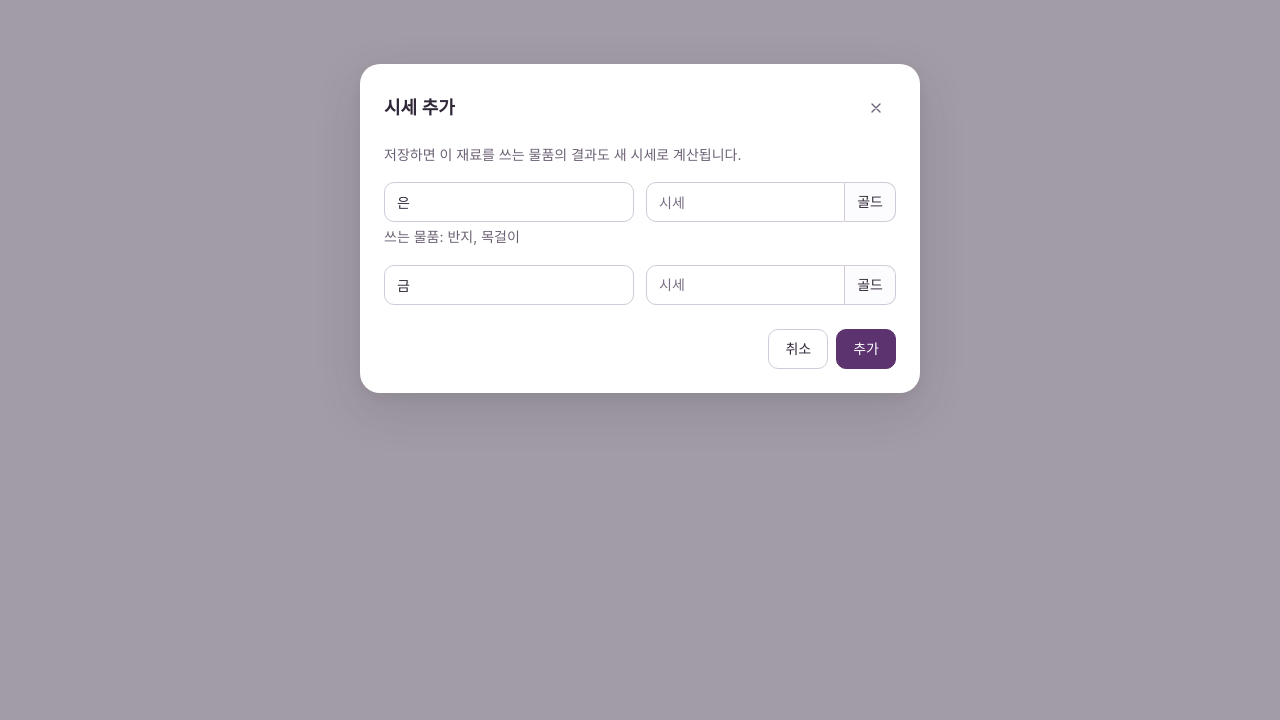
Scenario: NewMarketsModal › 시세 누락·이름 겹침을 알리고 제출하지 않는다
The width and height of the screenshot is (1280, 720).
Replace the text in the field labelled "금 이름" with "원목" at (509, 285), box [397,266,621,304]
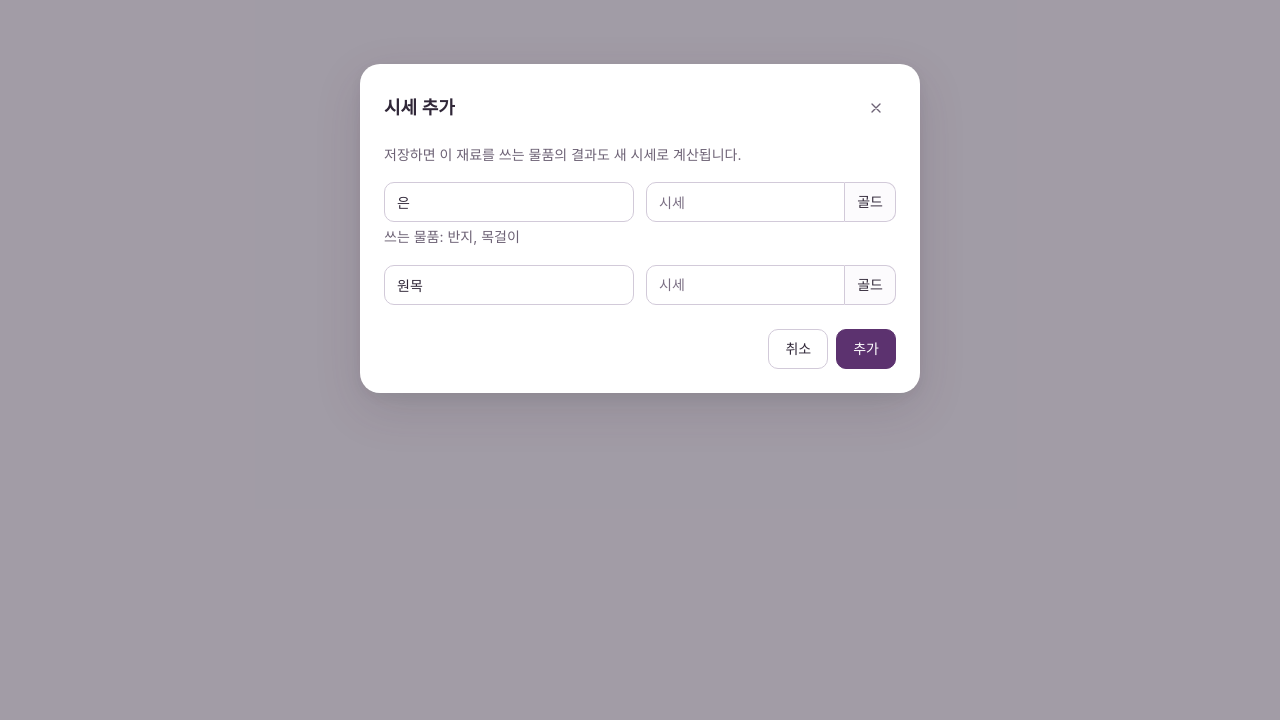
Type "30" into the number field labelled "은 시세" at (746, 202), box [659,183,832,221]
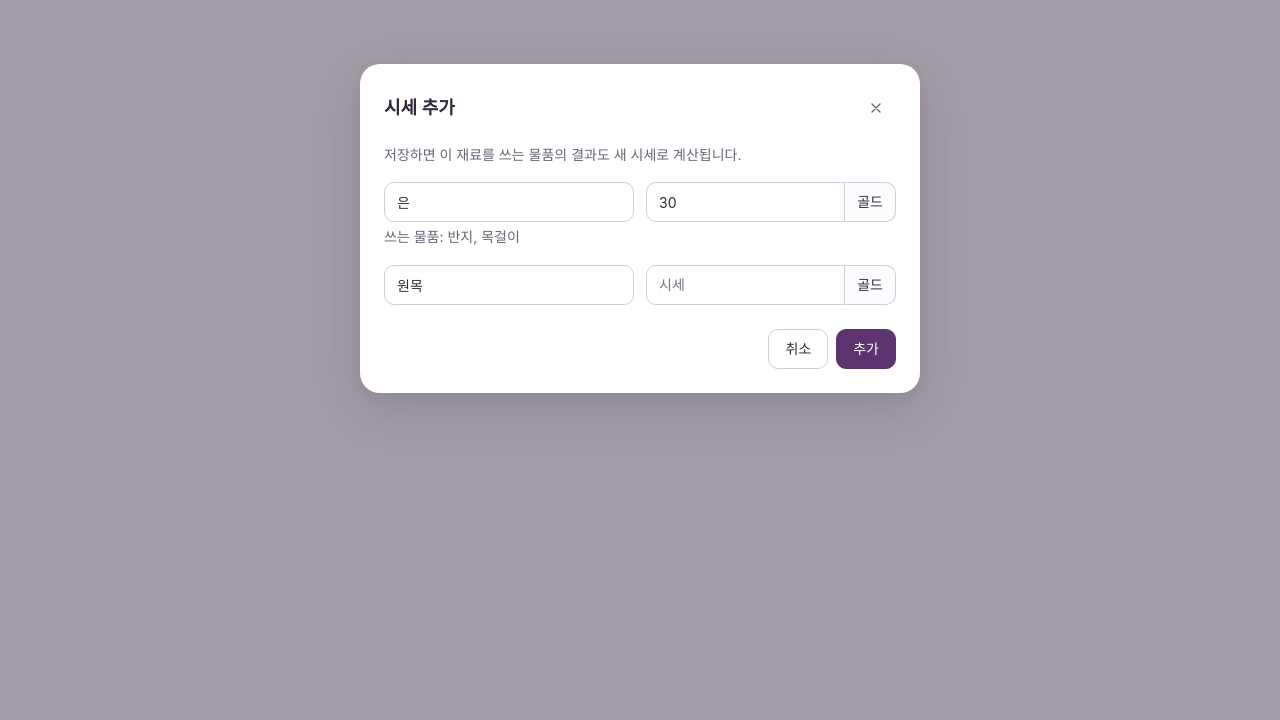
Click the button "추가" at (866, 349), box [836,329,896,369]
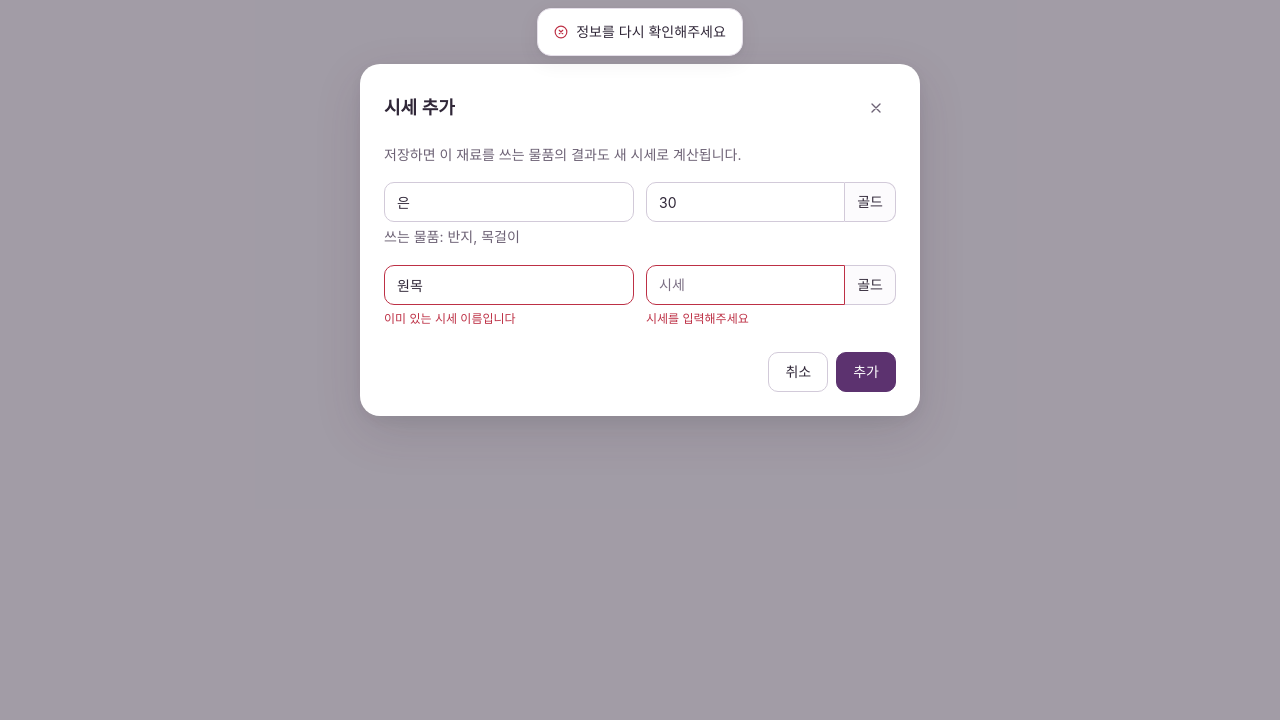
Result: the text "정보를 다시 확인해주세요" is shown at [576,21,726,43]
